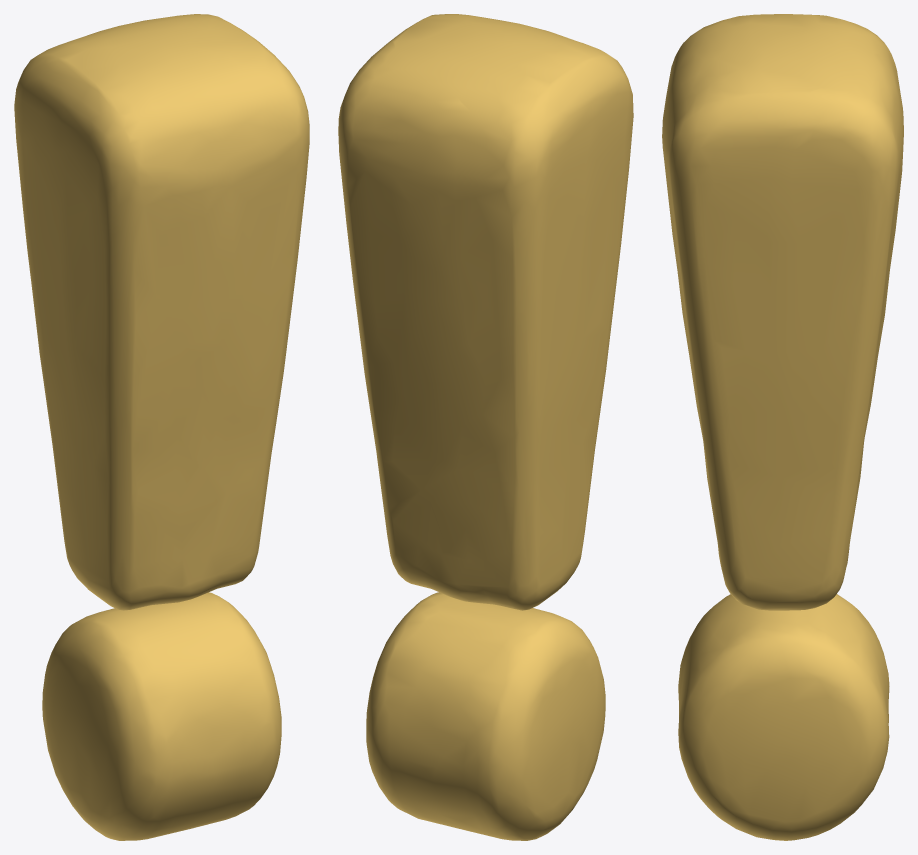
The model's file is quest_marker.glb.
3 views of the same model, side by side, from view 1: azimuth 30°, elevation 25°; view 2: azimuth 150°, elevation 25°; view 3: azimuth 270°, elevation 25° (orthographic).
Visible parts, largest first — view 1: Tripo quest exclamation mark; view 2: Tripo quest exclamation mark; view 3: Tripo quest exclamation mark.
Part boxes in pixels (x1,y1,x2,y2): Tripo quest exclamation mark: (14, 14, 309, 840); Tripo quest exclamation mark: (338, 14, 633, 840); Tripo quest exclamation mark: (662, 14, 903, 840).
Bounding box in the file's own units: 0.1538 × 0.5497 × 0.1563.
